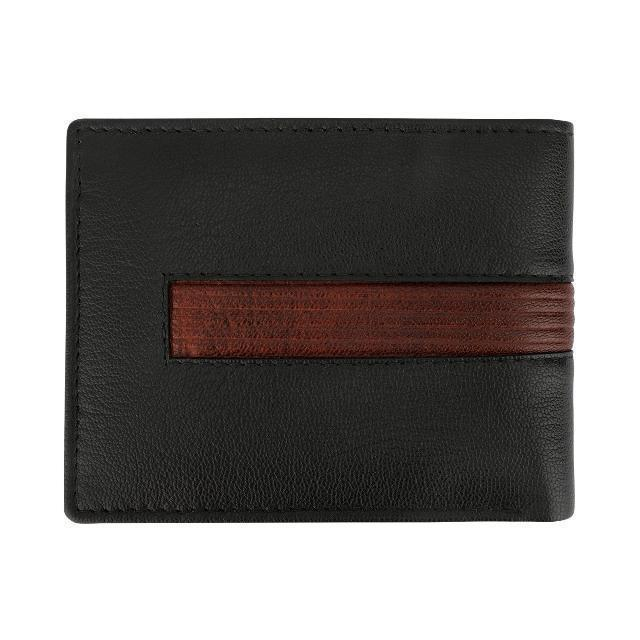wallet: (64, 119, 574, 524)
